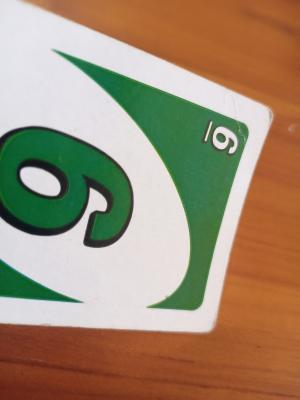green: (18, 84, 184, 305)
num_6: (201, 111, 245, 163)
